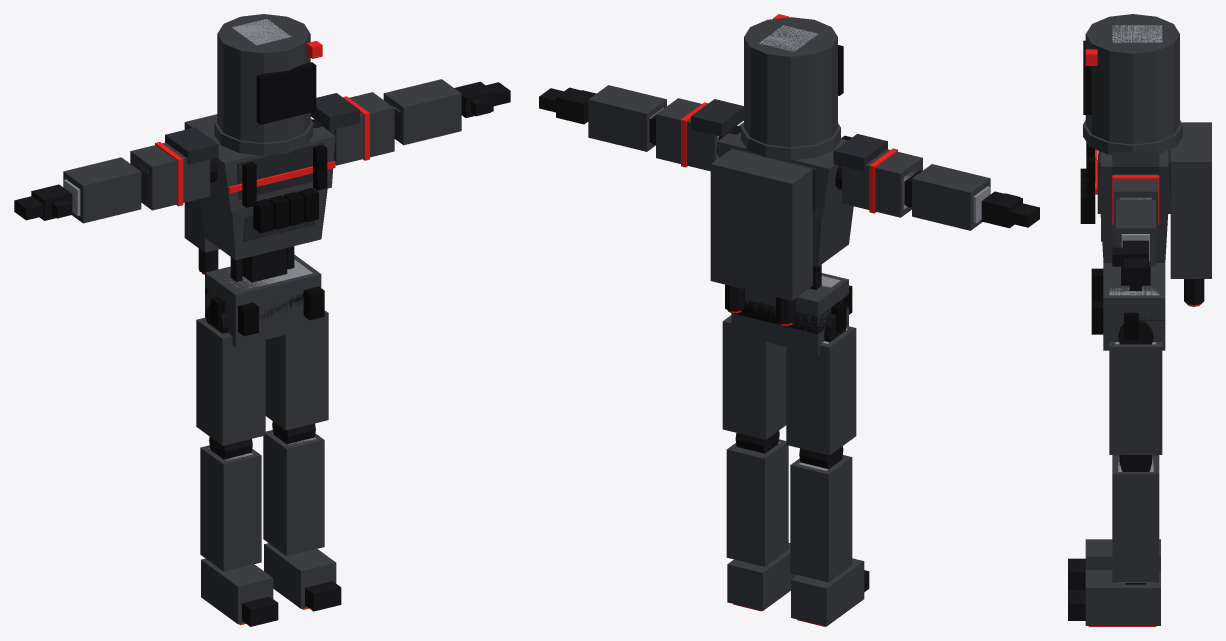
Rendered from char_F2_eva_boarder.obj.
3 views of the same model, side by side, from view 1: azimuth 30°, elevation 25°; view 2: azimuth 150°, elevation 25°; view 3: azimuth 270°, elevation 25° (orthographic).
Parts seen in each view (by area): view 1: EVA_Suit, Helmet_EVA, ChassisJoints, Boots_Mag, Rig_Mags, Helmet_EVA_Visor, Chest_Medium, Pauldrons_Light, Chassis, Belt_Combat, EVA_Suit_Stripe, Pack_EVA; view 2: EVA_Suit, Pack_EVA, Helmet_EVA, Boots_Mag, ChassisJoints, Pauldrons_Light, Belt_Combat, Chassis, Pack_EVA_Nozzles, EVA_Suit_Stripe; view 3: EVA_Suit, Helmet_EVA, Pack_EVA, Boots_Mag, ChassisJoints, Chassis, Belt_Combat, Pauldrons_Light, Rig_Mags, EVA_Suit_Stripe, Pack_EVA_Nozzles, Helmet_EVA_Visor (+2 smaller).
Boxes of the visible parts, left/top/right/bottom form: EVA_Suit: left=63, top=79, right=461, bottom=571; Helmet_EVA: left=214, top=14, right=313, bottom=155; ChassisJoints: left=14, top=81, right=510, bottom=626; Boots_Mag: left=201, top=543, right=336, bottom=624; Rig_Mags: left=242, top=144, right=327, bottom=233; Helmet_EVA_Visor: left=256, top=62, right=316, bottom=124; Chest_Medium: left=237, top=142, right=323, bottom=241; Pauldrons_Light: left=165, top=93, right=359, bottom=164; Chassis: left=63, top=19, right=400, bottom=460; Belt_Combat: left=205, top=286, right=324, bottom=336; EVA_Suit_Stripe: left=155, top=96, right=369, bottom=206; Pack_EVA: left=184, top=114, right=219, bottom=252; EVA_Suit: left=588, top=85, right=990, bottom=582; Pack_EVA: left=710, top=149, right=812, bottom=300; Helmet_EVA: left=741, top=17, right=840, bottom=160; Boots_Mag: left=727, top=543, right=864, bottom=626; ChassisJoints: left=539, top=87, right=1039, bottom=591; Pauldrons_Light: left=691, top=99, right=887, bottom=171; Belt_Combat: left=733, top=285, right=852, bottom=333; Chassis: left=650, top=25, right=990, bottom=470; Pack_EVA_Nozzles: left=725, top=284, right=795, bottom=324; EVA_Suit_Stripe: left=681, top=102, right=897, bottom=213; EVA_Suit: left=1097, top=150, right=1171, bottom=582; Helmet_EVA: left=1083, top=14, right=1182, bottom=154; Pack_EVA: left=1170, top=122, right=1211, bottom=278; Boots_Mag: left=1085, top=539, right=1160, bottom=625; ChassisJoints: left=1068, top=240, right=1153, bottom=620; Chassis: left=1109, top=25, right=1162, bottom=582; Belt_Combat: left=1091, top=268, right=1164, bottom=339; Pauldrons_Light: left=1112, top=152, right=1159, bottom=175; Rig_Mags: left=1080, top=142, right=1095, bottom=223; EVA_Suit_Stripe: left=1095, top=149, right=1159, bottom=224; Pack_EVA_Nozzles: left=1184, top=279, right=1204, bottom=305; Helmet_EVA_Visor: left=1083, top=40, right=1091, bottom=114.
Size of the model in its own units: 1.69 by 1.88 by 0.4294.
